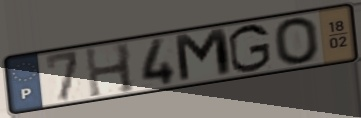4: (138, 36, 179, 88)
7: (43, 48, 81, 104)
G: (225, 23, 273, 75)
H: (83, 41, 139, 101)
M: (172, 26, 236, 86)
O: (271, 15, 323, 67)
